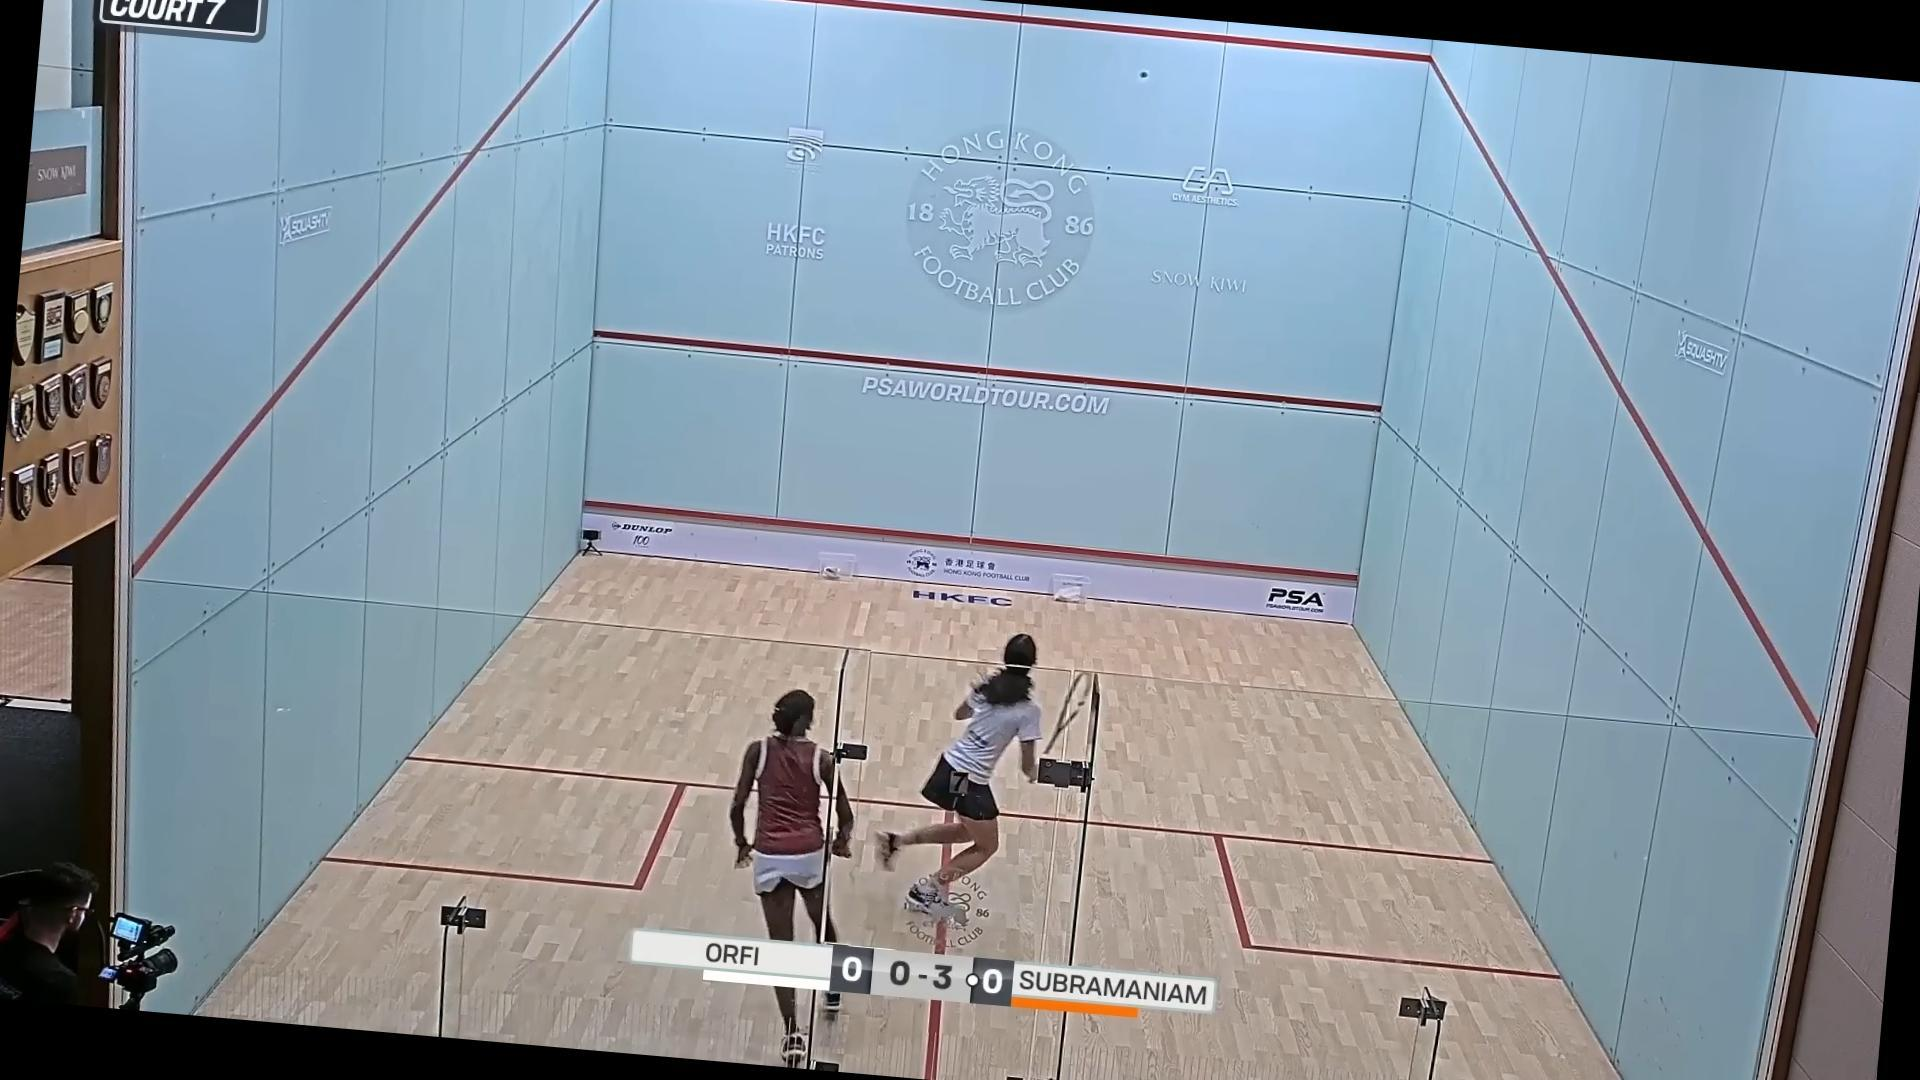Squash-Ball: (1133, 63, 1151, 83)
